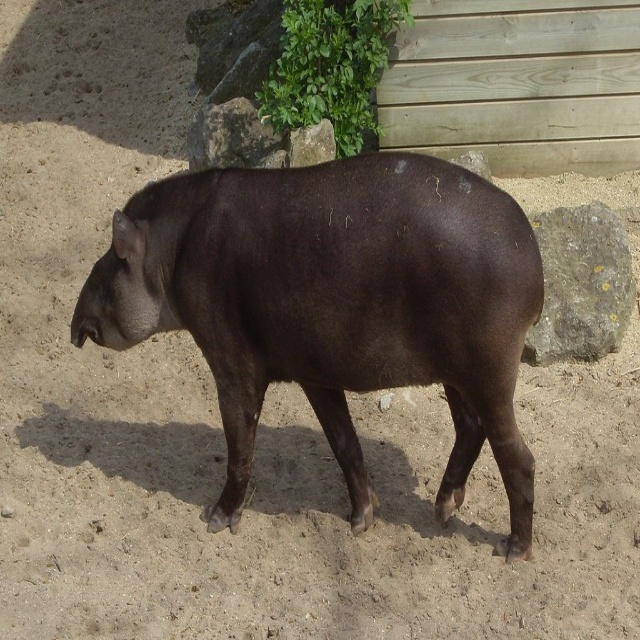Pig: (70, 151, 545, 563)
